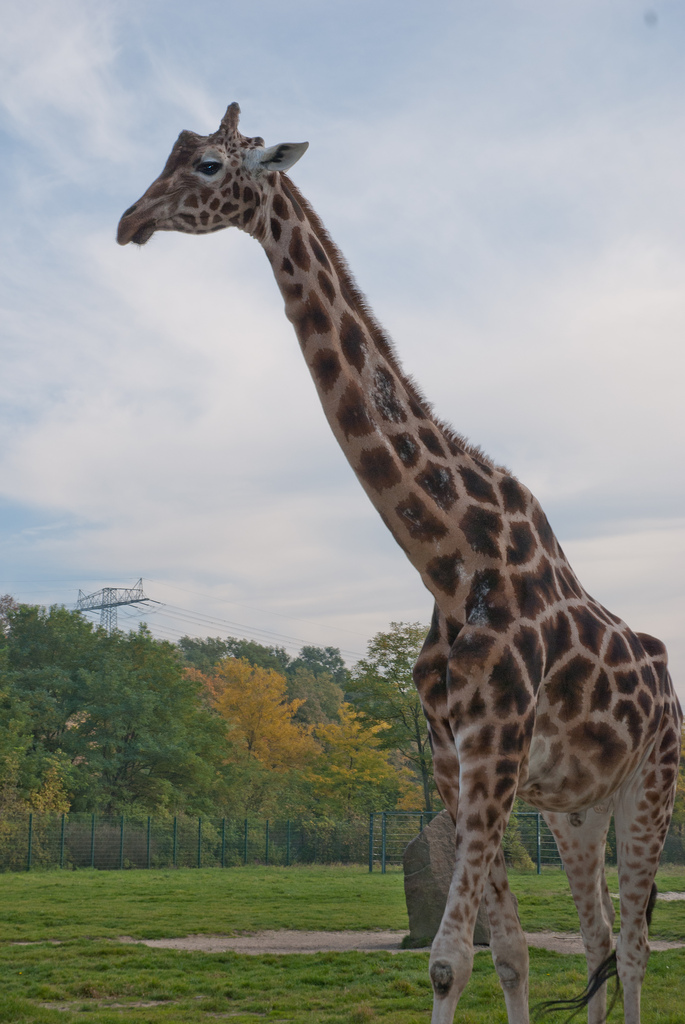giraffe: (102, 101, 647, 1010)
